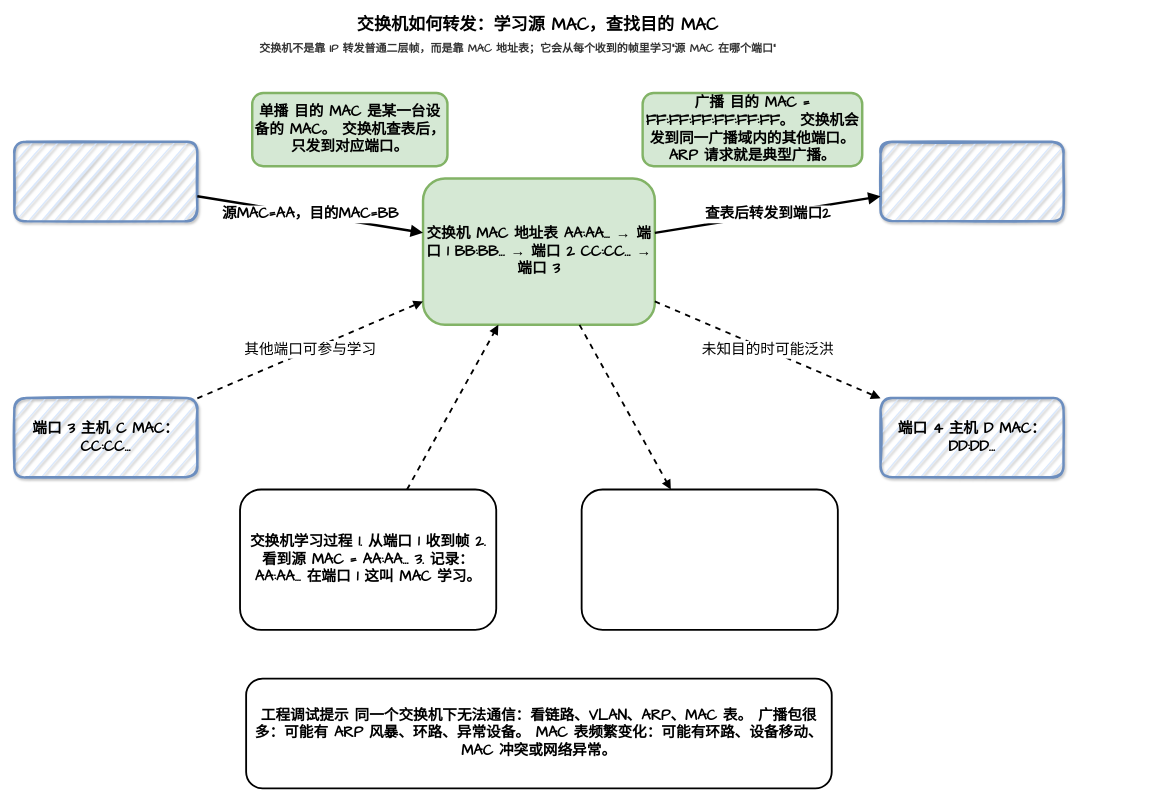
This 1159x800 diagram has some shape labels left out. Each missing label, with the centre of its shape:
"交换机转发过程 如果目的 MAC = BB:BB... 并且表里知道 BB 在端口 2： 只从端口 2 发出去。 如果不知道目的 MAC： 会向其他端口泛洪。" goes at (x=709, y=559).
"端口 1 主机 A MAC：AA:AA..." goes at (x=106, y=182).
"端口 2 主机 B MAC：BB:BB..." goes at (x=972, y=182).
